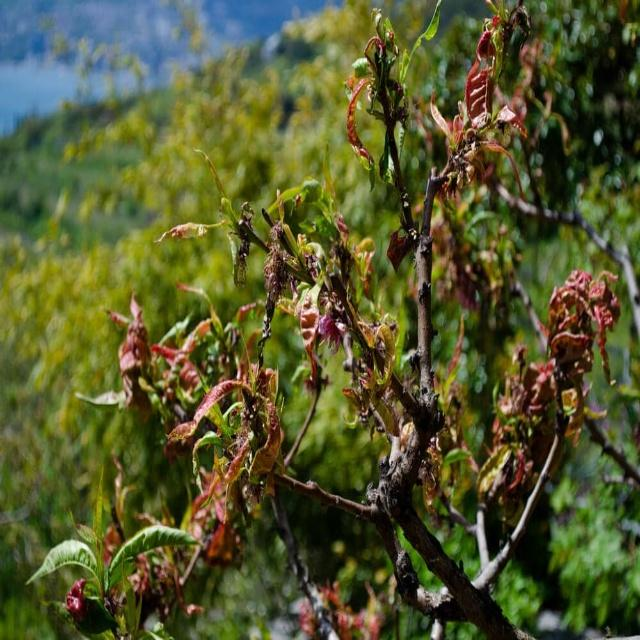leaf_curl: (512, 259, 634, 386), (438, 18, 560, 145)
